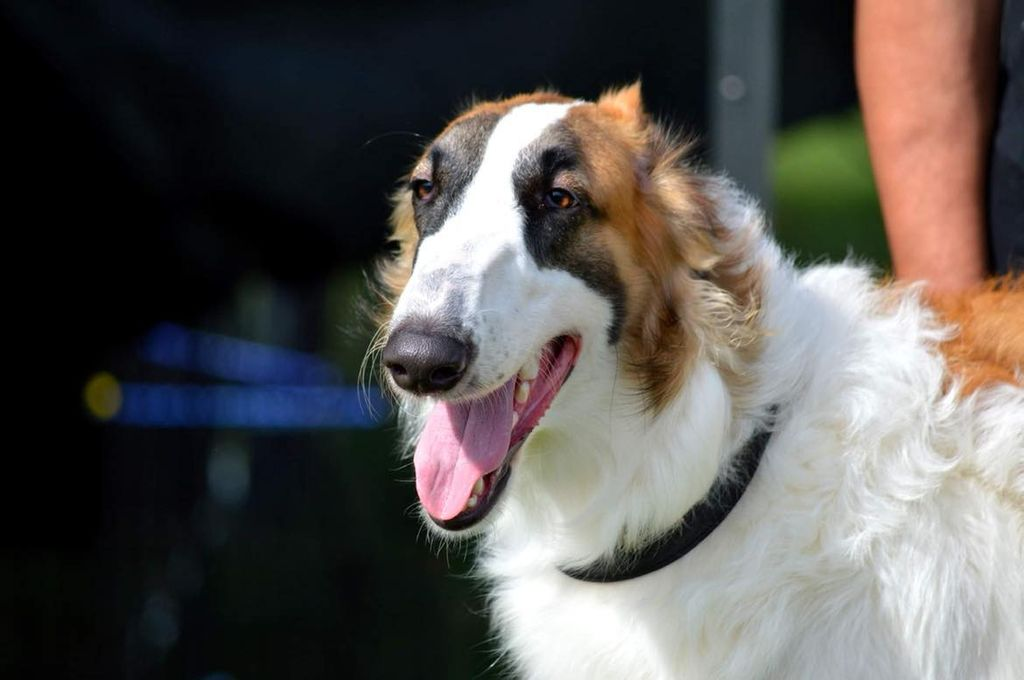borzoi: (291, 65, 1024, 680)
